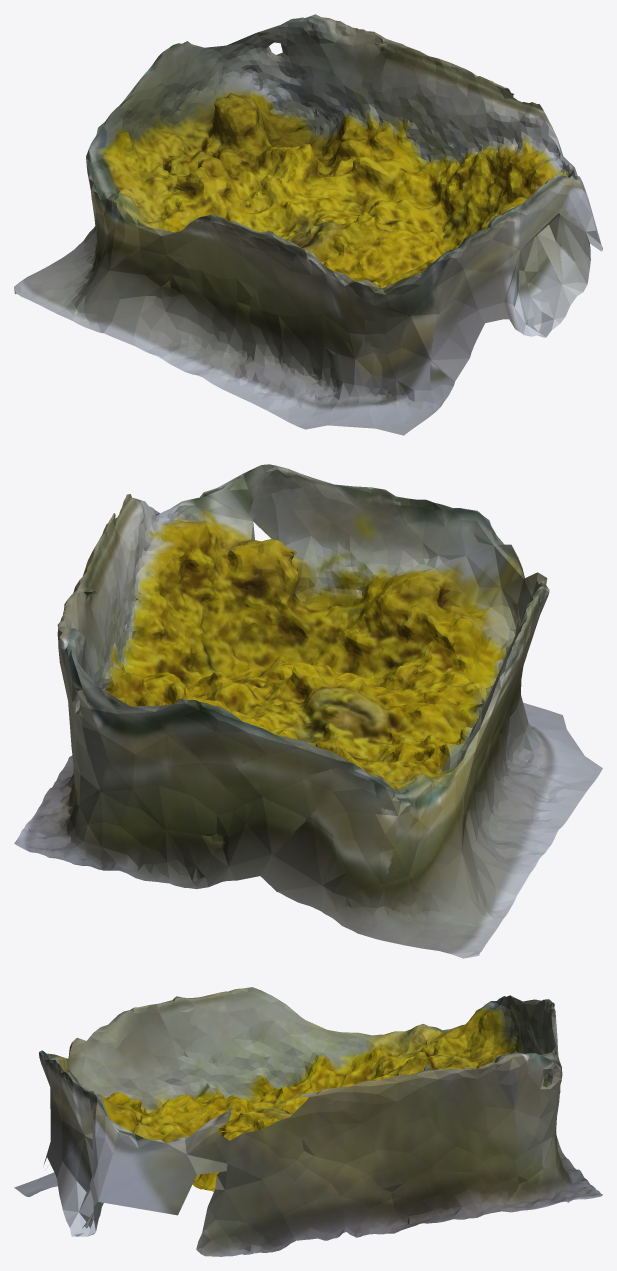
File: rouz.glb
3 renders of one model, top to bottom at view 1: azimuth 30°, elevation 25°; view 2: azimuth 150°, elevation 25°; view 3: azimuth 270°, elevation 25°, orthographic. The views are drawn at different scales.
Bounding box in the file's own units: 0.9926 × 0.4706 × 1.17.
1 material, 1 textured.
